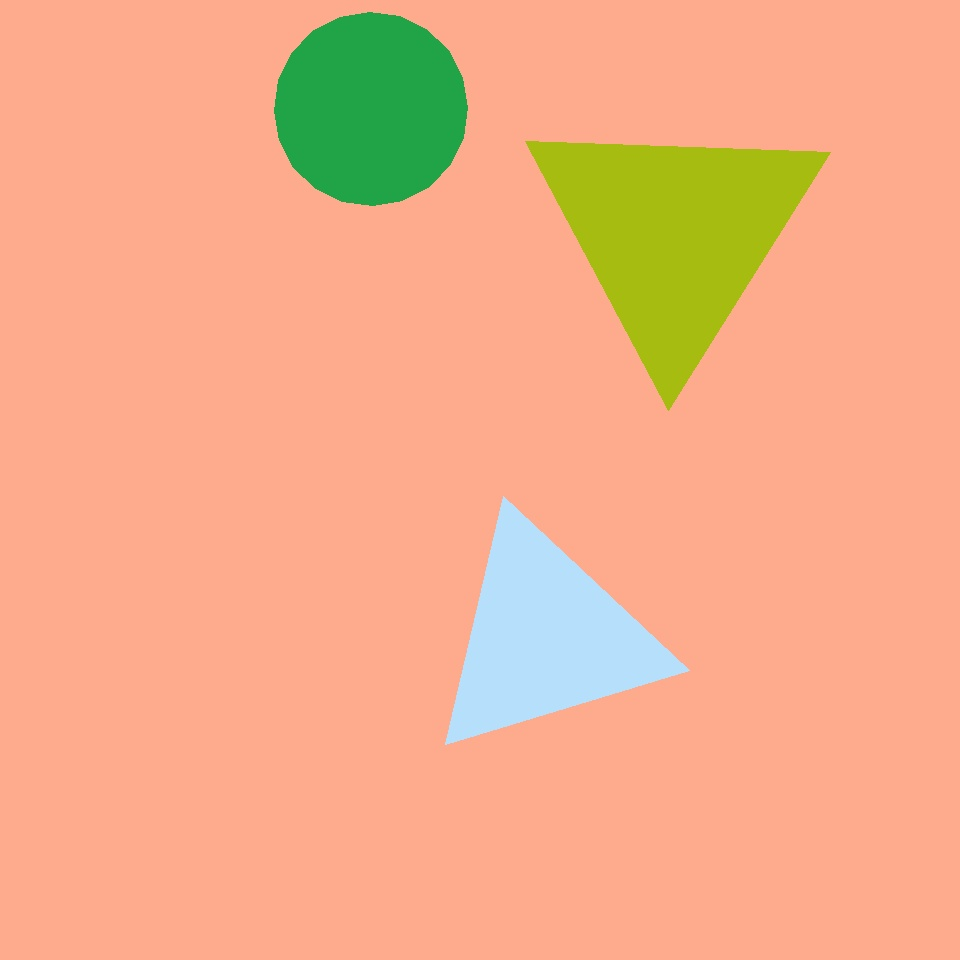circle: (522, 100, 828, 370), (424, 513, 668, 761)
triangle: (274, 12, 468, 206)
